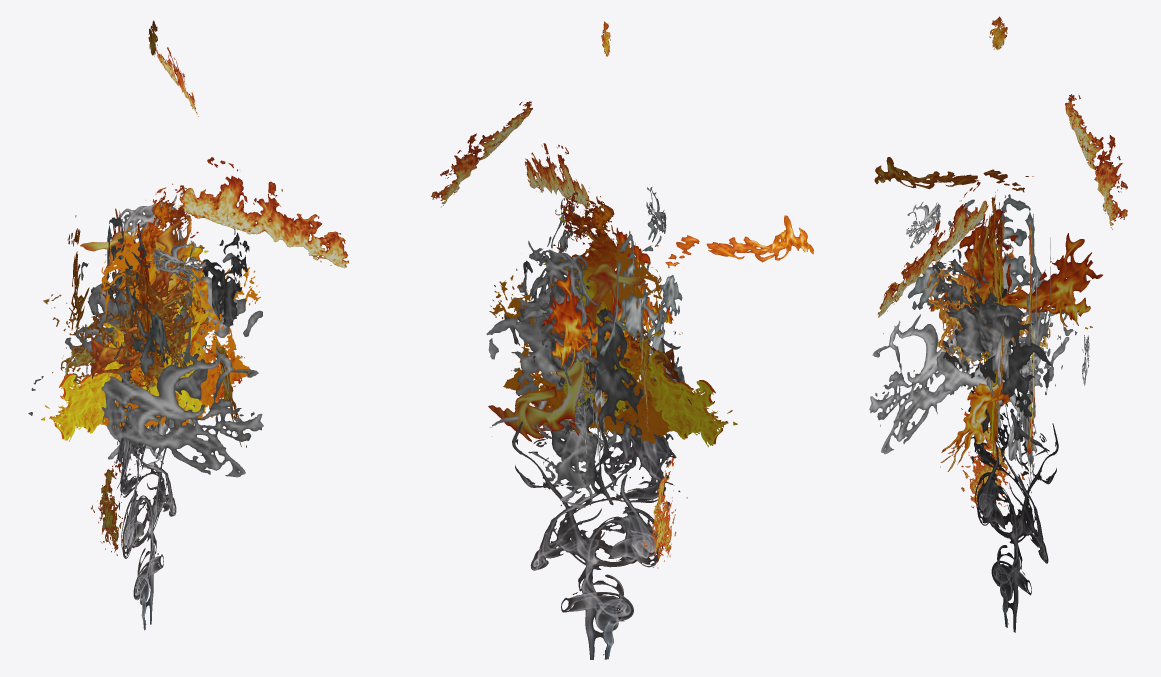
Rendered from fire.glb.
3 views of the same model, side by side, from view 1: azimuth 30°, elevation 25°; view 2: azimuth 150°, elevation 25°; view 3: azimuth 270°, elevation 25° (orthographic). The views are drawn at different scales.
Visible parts, largest first — view 1: fire_part_02, fire_part_017, fire_part_011, fire_part_05, fire_part_028, fire_part_010, fire_part_021, fire_part_020, fire_part_06, fire_part_023, fire_part_07, fire_part_025 (+7 smaller); view 2: fire_part_028, fire_part_02, fire_part_020, fire_part_08, fire_part_00, fire_part_021, fire_part_019, fire_part_014, fire_part_022, fire_part_013, fire_part_06, fire_part_012 (+4 smaller); view 3: fire_part_028, fire_part_00, fire_part_017, fire_part_023, fire_part_019, fire_part_021, fire_part_011, fire_part_016, fire_part_012, fire_part_020, fire_part_05, fire_part_09 (+8 smaller).
Part boxes in pixels (left/top/right/bottom): fire_part_02: left=41, top=185, right=260, bottom=441; fire_part_017: left=101, top=350, right=263, bottom=477; fire_part_011: left=172, top=157, right=348, bottom=268; fire_part_05: left=43, top=269, right=199, bottom=390; fire_part_028: left=111, top=342, right=176, bottom=630; fire_part_010: left=90, top=214, right=208, bottom=378; fire_part_021: left=81, top=215, right=170, bottom=374; fire_part_020: left=28, top=252, right=262, bottom=459; fire_part_06: left=127, top=185, right=205, bottom=392; fire_part_023: left=201, top=229, right=249, bottom=321; fire_part_07: left=91, top=461, right=122, bottom=555; fire_part_025: left=152, top=240, right=206, bottom=282; fire_part_028: left=512, top=308, right=687, bottom=659; fire_part_02: left=489, top=198, right=737, bottom=447; fire_part_020: left=504, top=260, right=669, bottom=505; fire_part_08: left=488, top=263, right=645, bottom=441; fire_part_00: left=542, top=231, right=673, bottom=373; fire_part_021: left=590, top=222, right=682, bottom=374; fire_part_019: left=486, top=289, right=651, bottom=436; fire_part_014: left=531, top=405, right=616, bottom=509; fire_part_022: left=518, top=240, right=601, bottom=353; fire_part_013: left=650, top=215, right=813, bottom=268; fire_part_06: left=542, top=192, right=645, bottom=400; fire_part_012: left=431, top=101, right=532, bottom=206; fire_part_028: left=962, top=284, right=1058, bottom=632; fire_part_00: left=929, top=209, right=1102, bottom=329; fire_part_017: left=869, top=314, right=973, bottom=454; fire_part_023: left=932, top=249, right=1024, bottom=353; fire_part_019: left=943, top=293, right=1051, bottom=454; fire_part_021: left=907, top=194, right=1086, bottom=333; fire_part_011: left=877, top=181, right=995, bottom=317; fire_part_016: left=931, top=308, right=1077, bottom=427; fire_part_012: left=1065, top=94, right=1127, bottom=229; fire_part_020: left=986, top=265, right=1062, bottom=467; fire_part_05: left=925, top=241, right=1058, bottom=365; fire_part_09: left=940, top=381, right=1009, bottom=471.
Bounding box in the file's own units: 2.57 × 4.85 × 2.12.
1 material, 1 textured.
